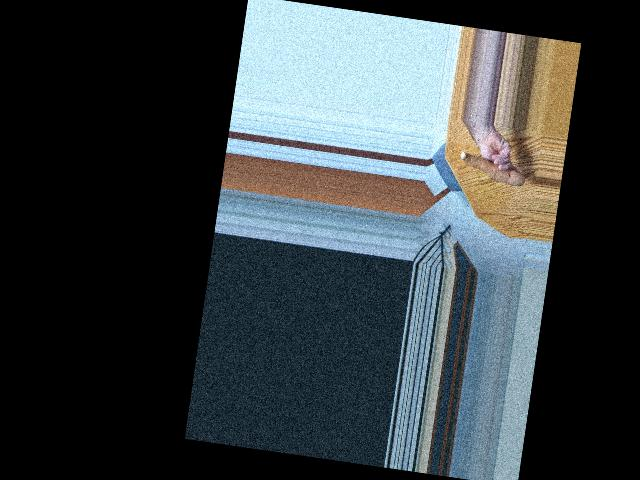sweet_potato: (456, 150, 526, 189)
